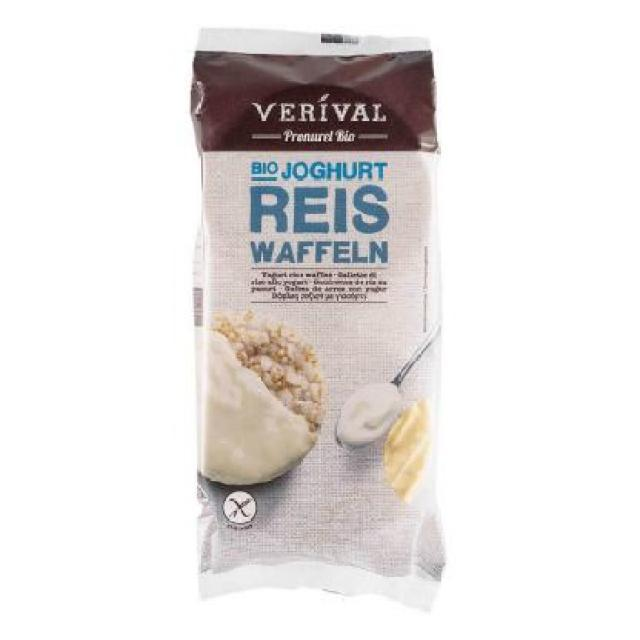Gallette di riso: (186, 20, 451, 620)
